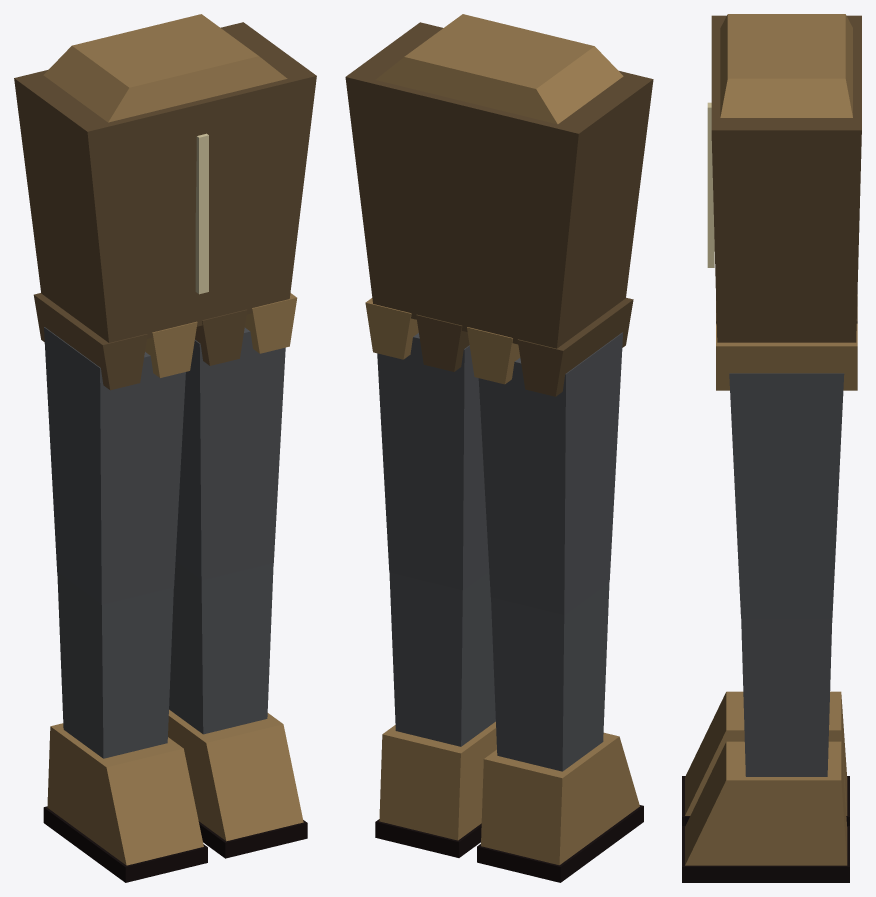
File: gear_body_hide_vest.glb
3 views of the same model, side by side, from view 1: azimuth 30°, elevation 25°; view 2: azimuth 150°, elevation 25°; view 3: azimuth 270°, elevation 25° (orthographic). The views are drawn at different scales.
Visible parts, largest first — view 1: torso, leg_r_lower, leg_r, leg_l_lower, leg_l; view 2: torso, leg_r_lower, leg_r, leg_l_lower, leg_l; view 3: torso, leg_l_lower, leg_l, leg_r_lower.
Boxes of the visible parts, x1=… form: torso: x1=14, y1=14, x2=316, y2=390; leg_r_lower: x1=43, y1=572, x2=207, y2=882; leg_r: x1=44, y1=327, x2=185, y2=604; leg_l_lower: x1=168, y1=562, x2=307, y2=858; leg_l: x1=175, y1=327, x2=285, y2=580; torso: x1=345, y1=14, x2=653, y2=396; leg_r_lower: x1=477, y1=582, x2=643, y2=882; leg_r: x1=478, y1=332, x2=622, y2=614; leg_l_lower: x1=375, y1=571, x2=496, y2=857; leg_l: x1=377, y1=333, x2=489, y2=590; torso: x1=707, y1=14, x2=861, y2=390; leg_l_lower: x1=682, y1=618, x2=849, y2=882; leg_l: x1=729, y1=373, x2=844, y2=618; leg_r_lower: x1=682, y1=691, x2=849, y2=825.
Size of the model in its own units: 0.46 by 1.48 by 0.305.
